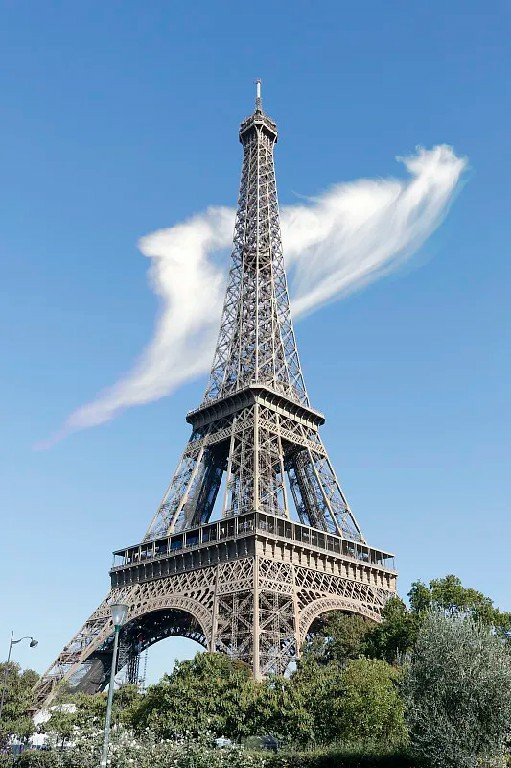Eiffel: (29, 76, 410, 713)
